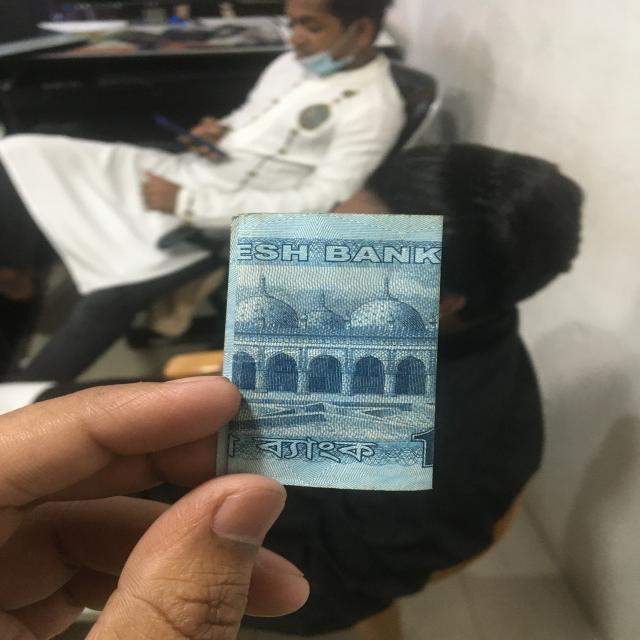Taka: (225, 210, 436, 491)
